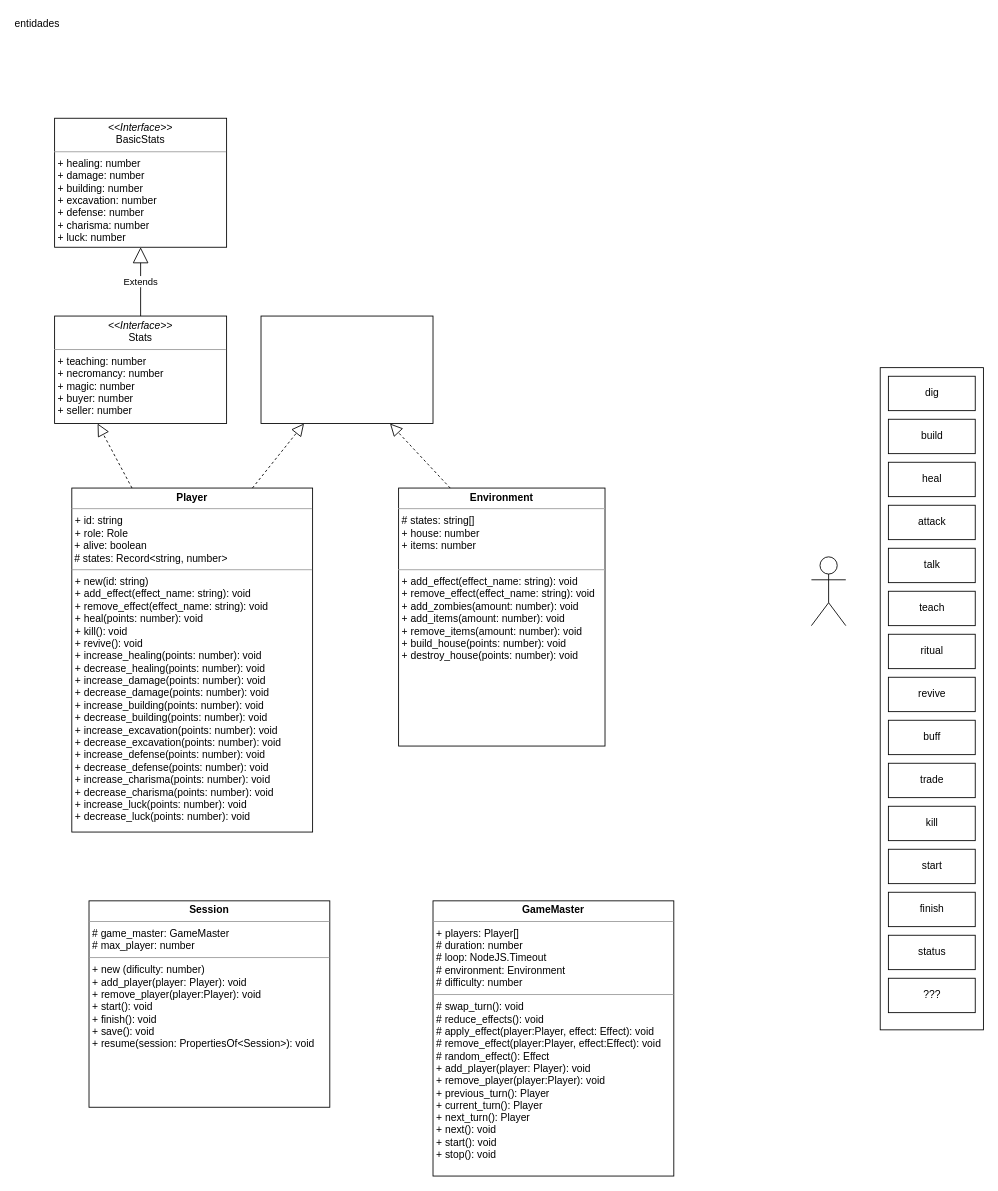
This 998x1191 diagram has some shape labels left out. Each missing label, with the centre of its shape:
"<<Interface>> Attackable + health: number + hurt(damage: number): void" belongs at (x=346, y=369).
"Actor" belongs at (x=828, y=591).
